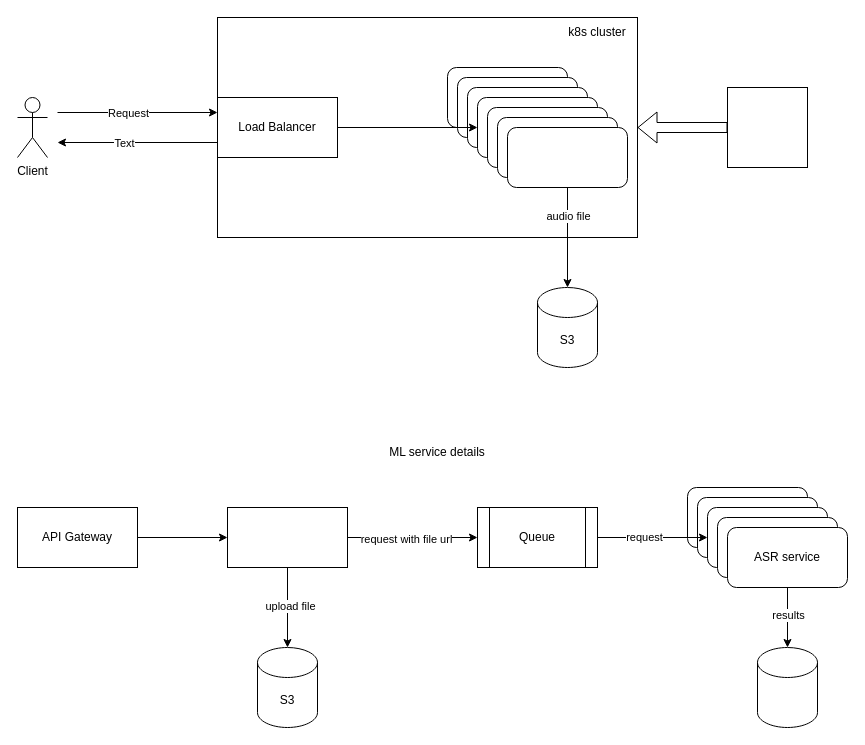
Some shapes in this 865 by 745 pixel diagram are drawn without their labels. The shapes that lost their labels are listed below. From the top down, each one's centre as x and y in pixels, then its label:
At (767,127): "Monitoring".
At (567,157): "ML service".
At (287,537): "API Service".
At (787,687): "DB".
